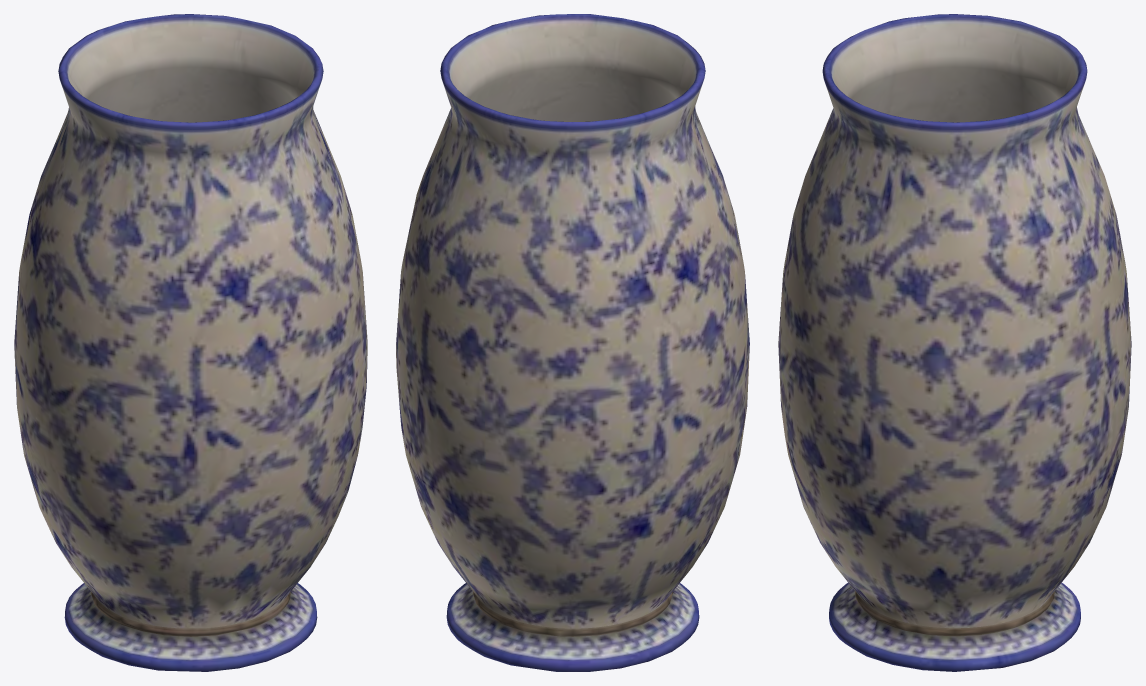
The model's file is antique_ceramic_vase_01.glb.
3 views of the same model, side by side, from view 1: azimuth 30°, elevation 25°; view 2: azimuth 150°, elevation 25°; view 3: azimuth 270°, elevation 25° (orthographic).
Parts seen in each view (by area): view 1: antique_ceramic_vase_01; view 2: antique_ceramic_vase_01; view 3: antique_ceramic_vase_01.
Boxes of the visible parts, x1,y1,x2,y2 form: antique_ceramic_vase_01: (14,14,367,671); antique_ceramic_vase_01: (396,14,749,671); antique_ceramic_vase_01: (778,14,1131,671).
Size of the model in its own units: 0.2549 by 0.4396 by 0.255.
1 material, 1 textured.
